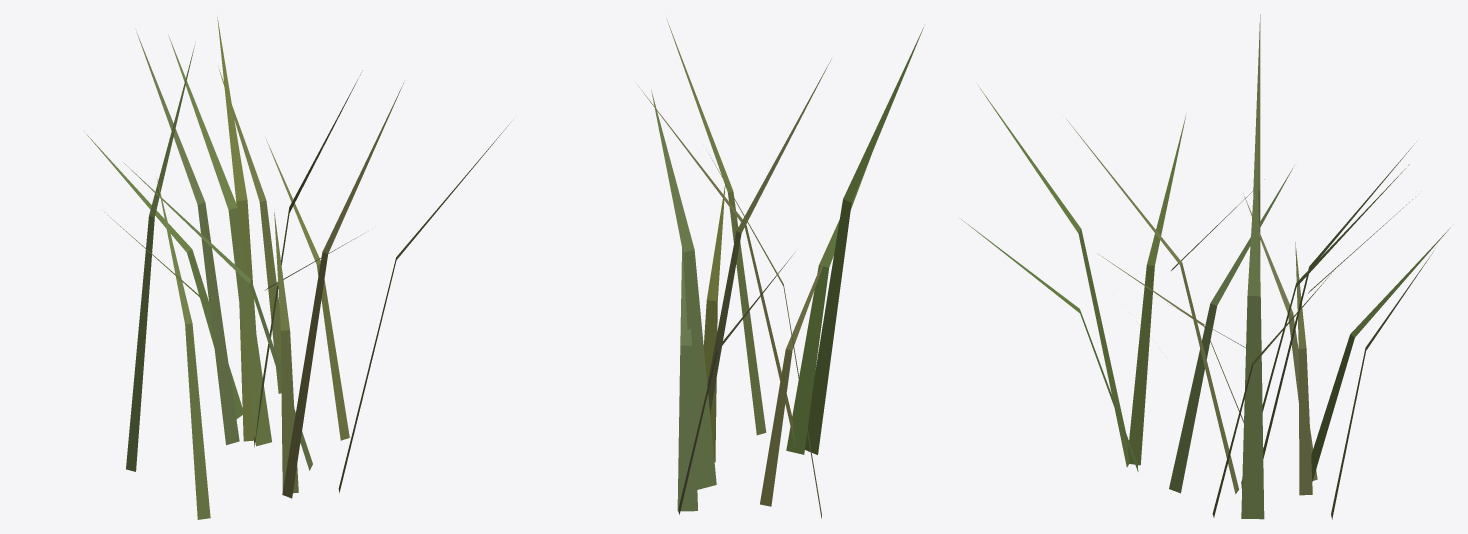
Rendered from grass_tuft.glb.
3 views of the same model, side by side, from view 1: azimuth 30°, elevation 25°; view 2: azimuth 150°, elevation 25°; view 3: azimuth 270°, elevation 25° (orthographic). The views are drawn at different scales.
Visible parts, largest first — view 1: grass_tuft; view 2: grass_tuft; view 3: grass_tuft.
Part boxes in pixels (x1=…): grass_tuft: x1=84, y1=17, x2=509, y2=519; grass_tuft: x1=637, y1=19, x2=923, y2=518; grass_tuft: x1=961, y1=14, x2=1450, y2=519.
Size of the model in its own units: 0.6543 by 0.6326 by 0.778.
